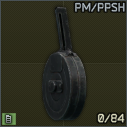PM 9x18PM 84-round makeshift drum magazine: (0, 0, 127, 127)
